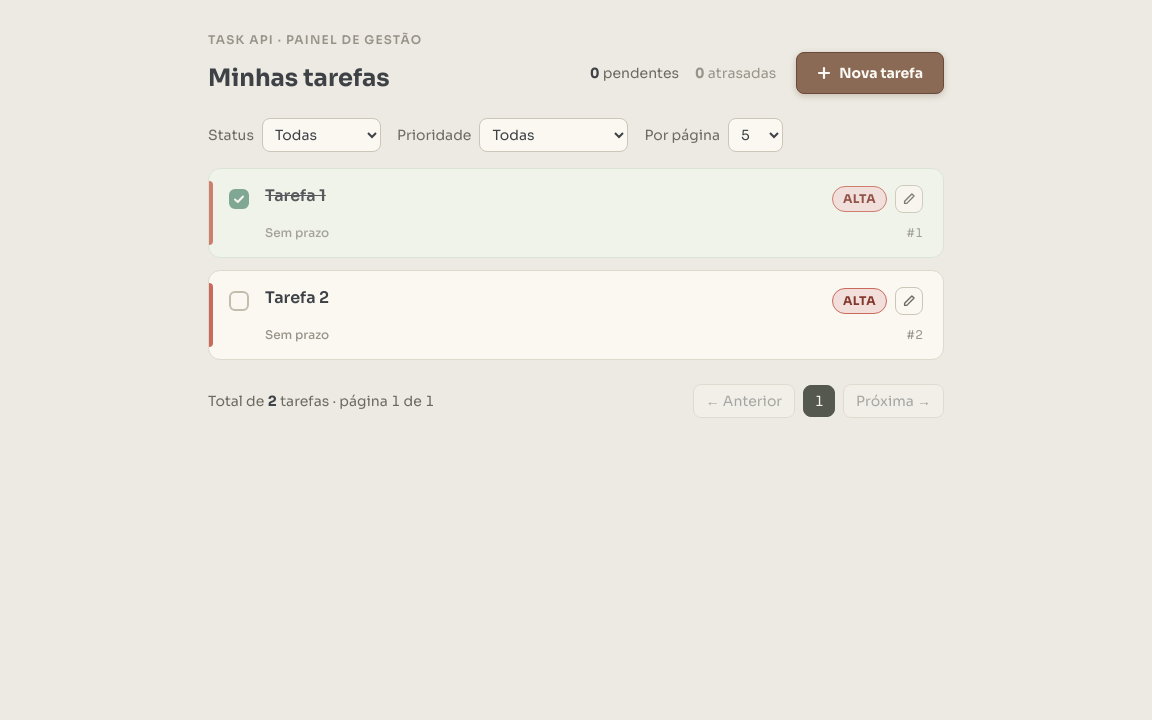
it: TaskListPage - formulário › clicar em "+ Nova tarefa" abre o formulário no modo criação
The image size is (1152, 720).
Check: the heading "Tarefa 1" is shown, box [265, 185, 326, 207]
Click the button "Nova tarefa".
click(870, 73)  # box [796, 52, 944, 94]
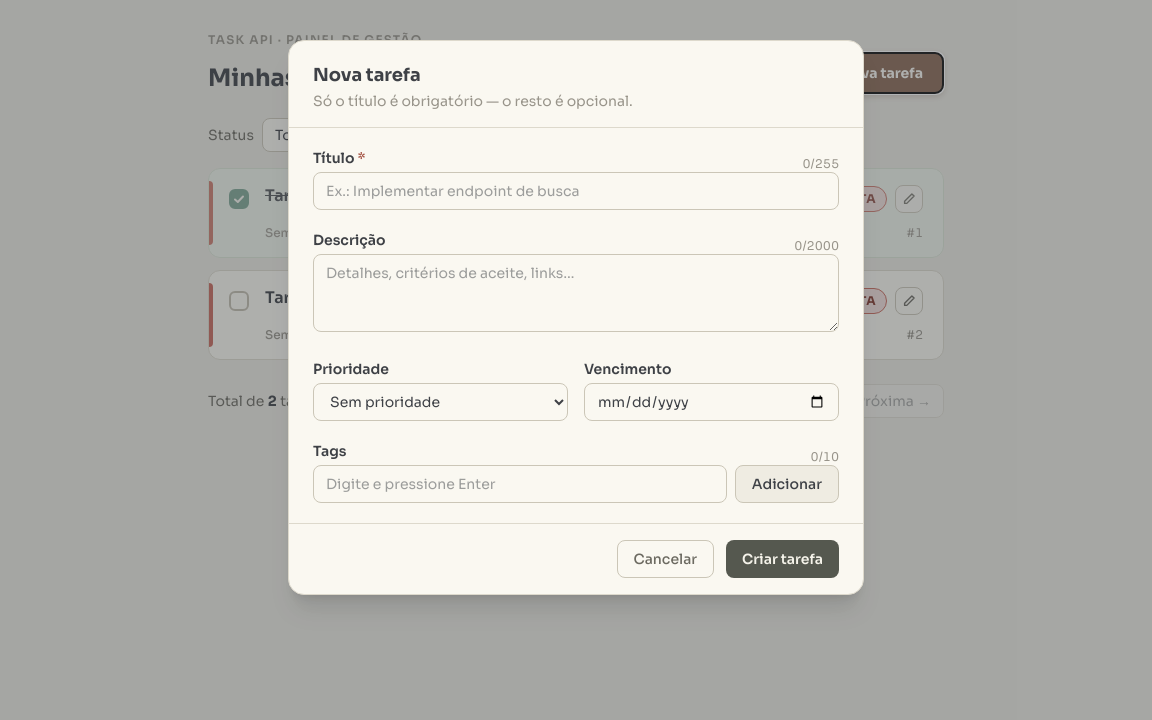
Check: the heading "Nova tarefa" is shown, box [313, 64, 421, 86]
